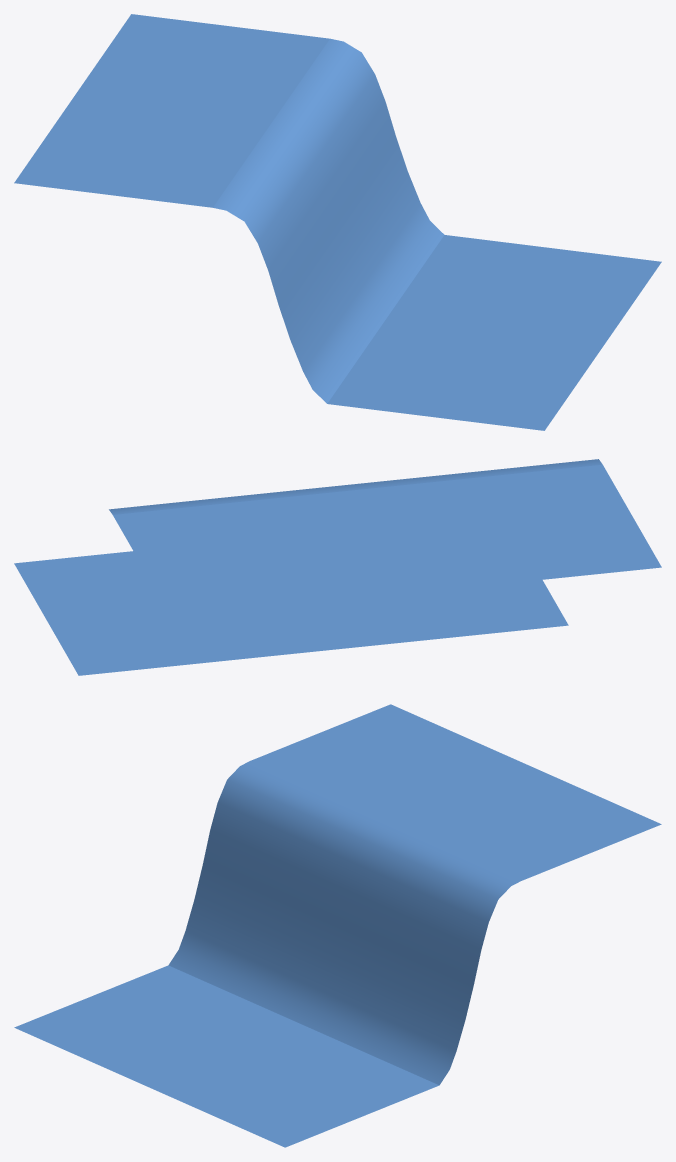
Rendered from Water_Waterfall.glb.
3 views of the same model, one above another, from view 1: azimuth 30°, elevation 25°; view 2: azimuth 150°, elevation 25°; view 3: azimuth 270°, elevation 25° (orthographic). The views are drawn at different scales.
Visible parts, largest first — view 1: Waterfall; view 2: Waterfall; view 3: Waterfall.
Part boxes in pixels (left/top/right/bottom): Waterfall: left=14, top=14, right=661, bottom=430; Waterfall: left=14, top=459, right=661, bottom=675; Waterfall: left=14, top=704, right=661, bottom=1147.
Bounding box in the file's own units: 82.25 × 24.17 × 82.79.
